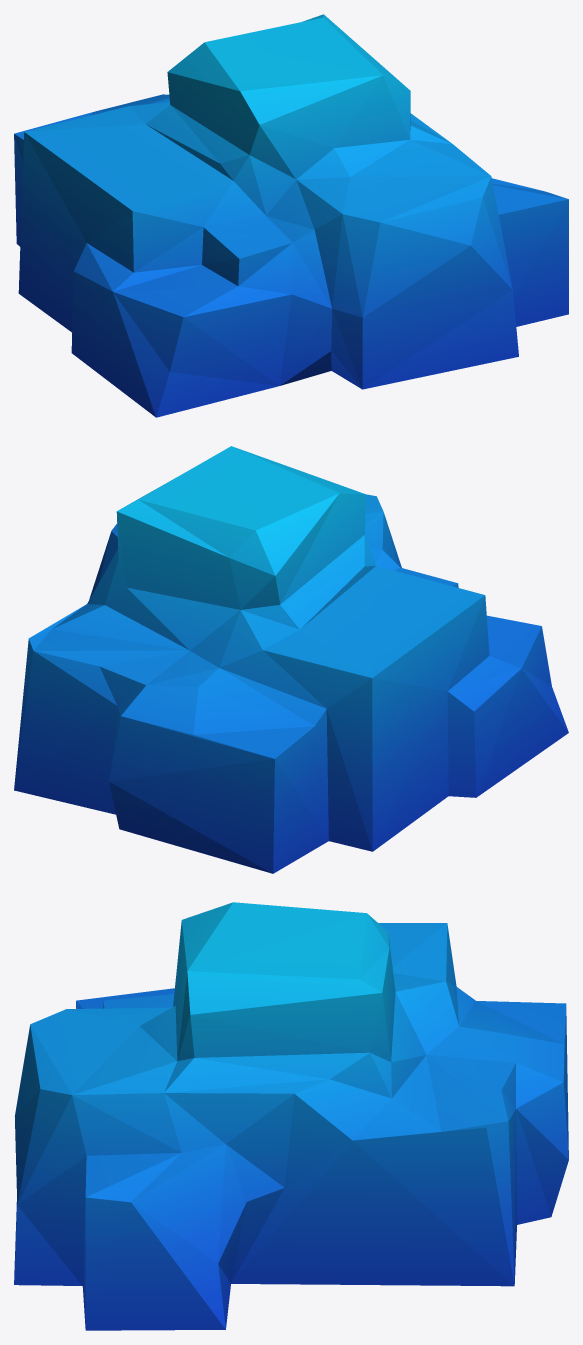
The model's file is crystal_23.glb.
3 views of the same model, one above another, from view 1: azimuth 30°, elevation 25°; view 2: azimuth 150°, elevation 25°; view 3: azimuth 270°, elevation 25° (orthographic). The views are drawn at different scales.
Visible parts, largest first — view 1: crystal_23; view 2: crystal_23; view 3: crystal_23.
Part boxes in pixels (<box>): crystal_23: <box>14,14,568,417</box>; crystal_23: <box>14,446,568,873</box>; crystal_23: <box>14,902,568,1330</box>.
Size of the model in its own units: 3.82 by 2.13 by 3.81.
Materials: 1 (1 with a texture image).
